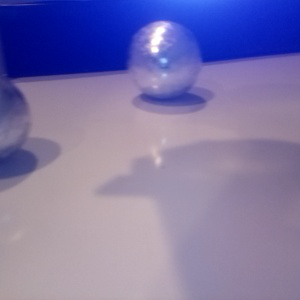alive_ball: (127, 20, 204, 99), (1, 70, 30, 166)
